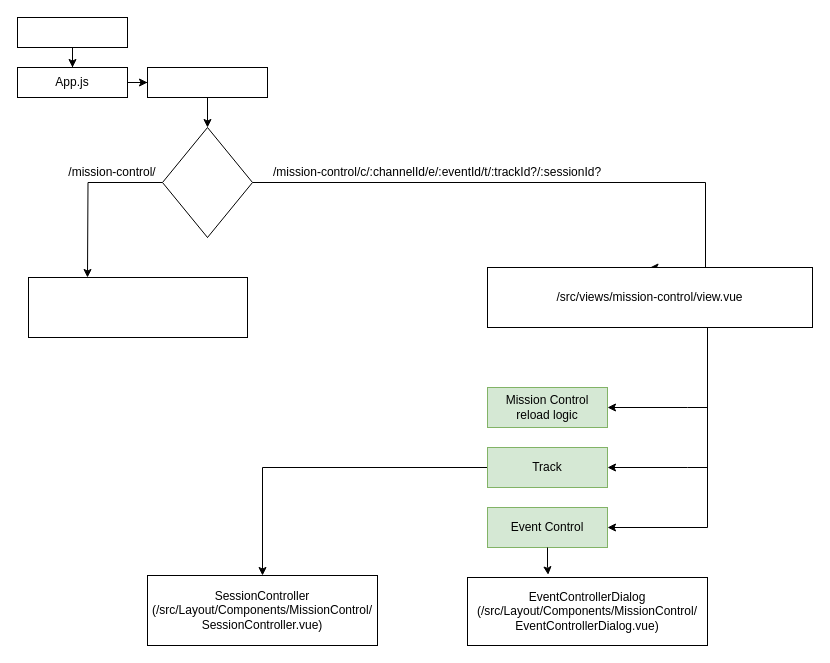
The diagram is 830 pixels wide and 663 high, and some of its shapes have lost their labels. The shapes that lost their labels are listed below. From the top down, each one's box as (x1, y1, x2, y2) in pixels, then its label:
(16, 16, 128, 48): Main.js
(146, 66, 268, 98): src/router
(28, 276, 248, 338): /src/views/mission-control/index.vue
